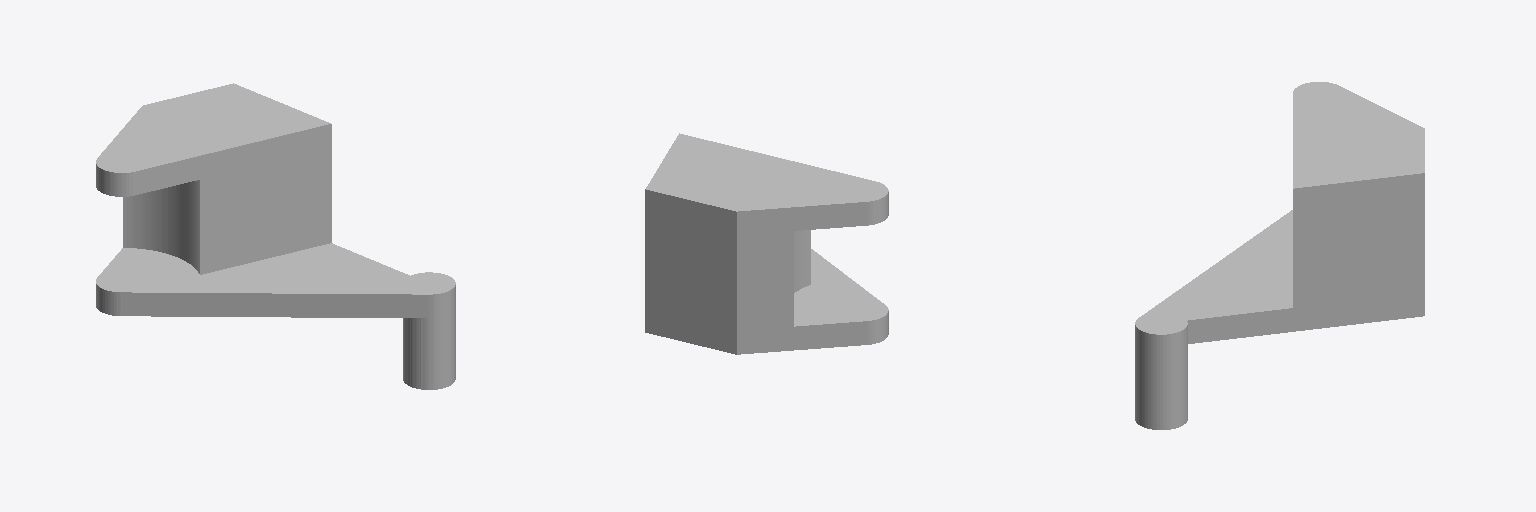
The model's file is Wrist.obj.
The picture shows the model from 3 angles: view 1: azimuth 30°, elevation 25°; view 2: azimuth 150°, elevation 25°; view 3: azimuth 270°, elevation 25°; orthographic projection.
Parts seen in each view (by area): view 1: Wrist; view 2: Wrist; view 3: Wrist.
Part boxes in pixels (x1,y1,x2,y2): Wrist: (96, 83, 455, 389); Wrist: (645, 133, 888, 354); Wrist: (1135, 82, 1424, 429).
Bounding box in the file's own units: 0.6 × 0.45 × 0.5499.